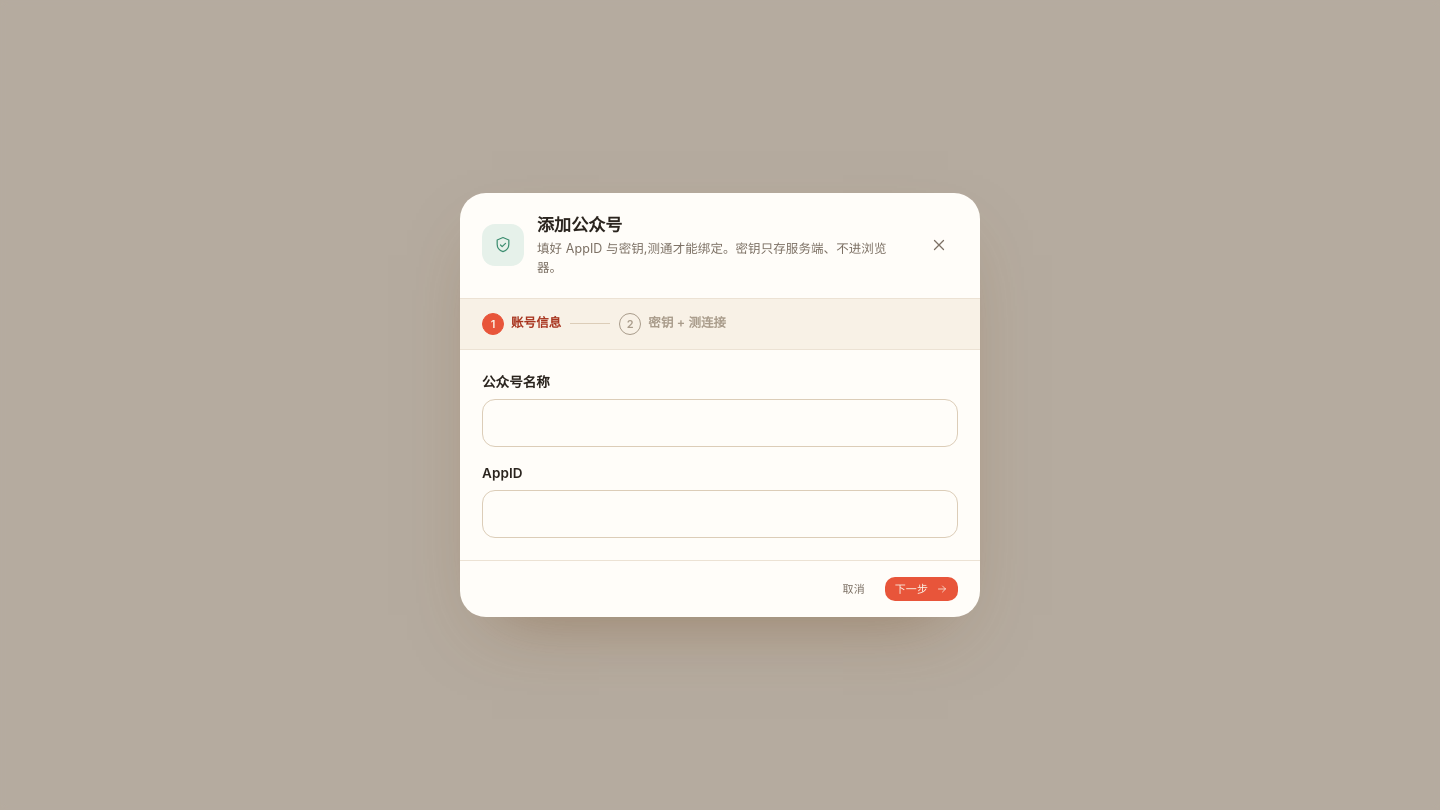
Test: WeChatBindWizard › 测试连接失败:优先透出后端可行动 message(如 IP 白名单),保留「连接失败」前缀
Type "号A" into the field named "名称" at point(720, 423), box [497,400,943,446]
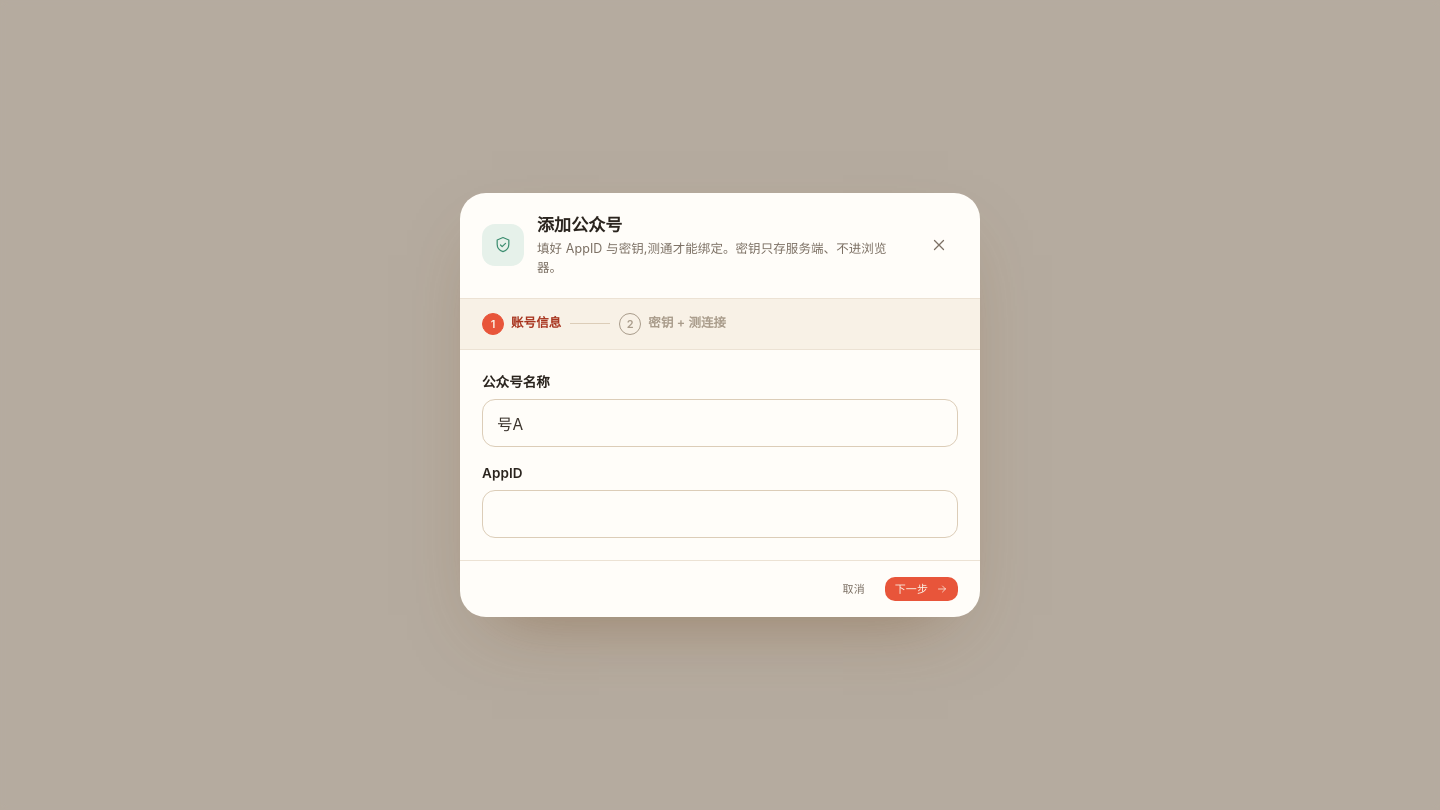
Type "wxAppId" into the field named "AppID" at point(720, 514), box [497,491,943,537]
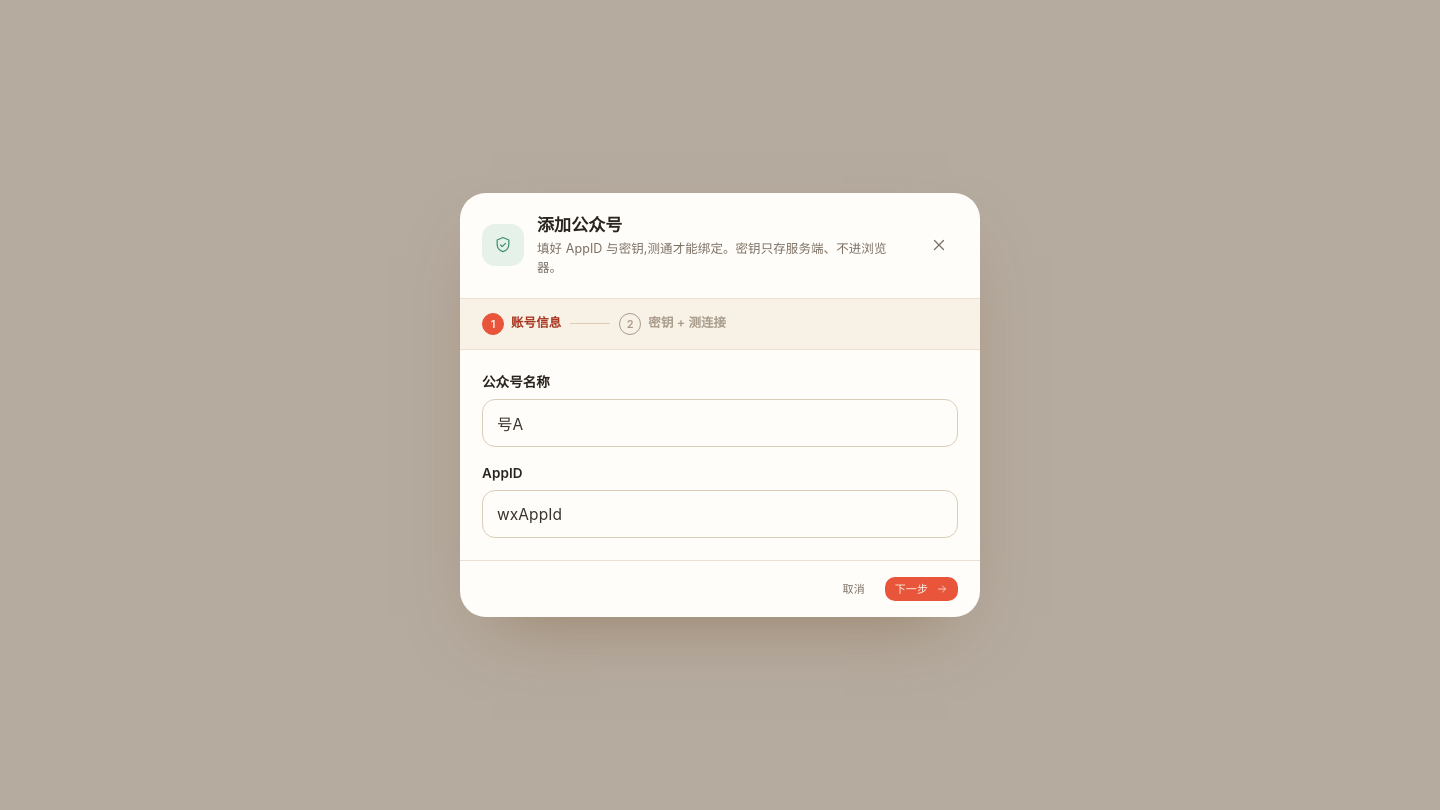
Click the button "下一步" at point(921, 589), box [885,577,958,601]
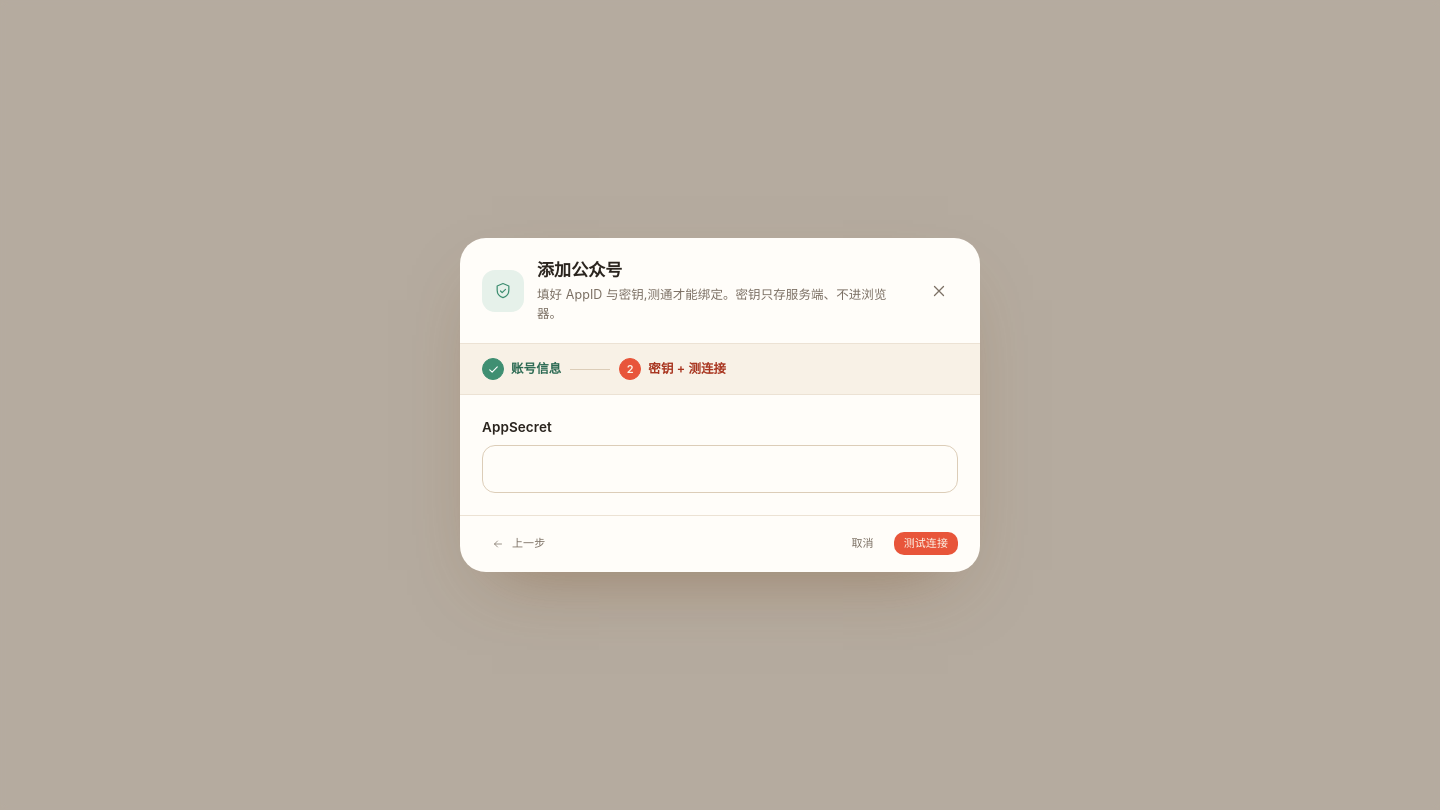
Type "secretX" into the password field named "AppSecret" at point(720, 469), box [497,446,943,492]
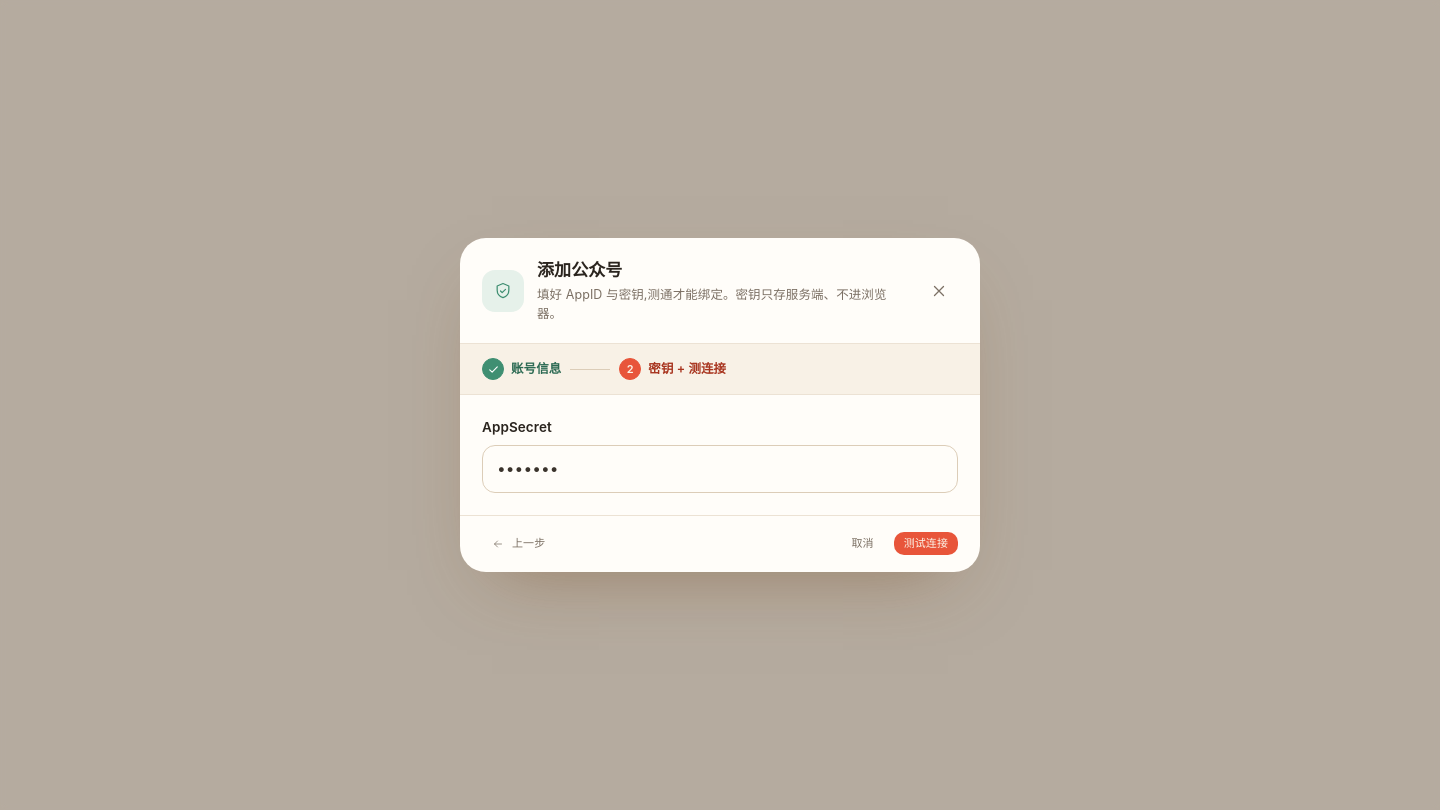
Click the button "测试连接" at point(926, 544), box [894,532,958,555]
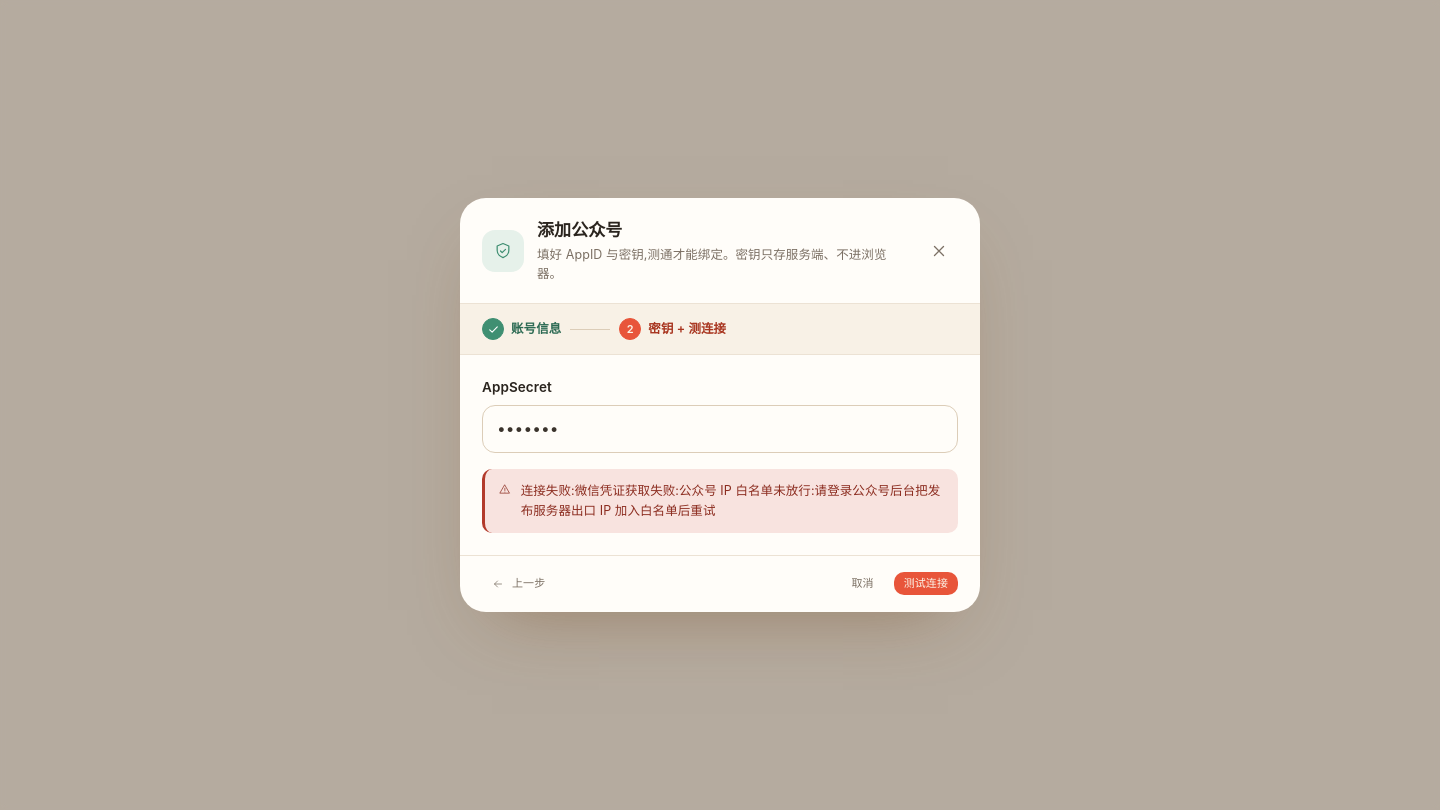
Result: the text "连接失败:微信凭证获取失败:公众号 IP 白名单未放行:请登录公众号后台把发布服务器出口 IP 加入白名单后重试" is shown at [521,481,944,521]
